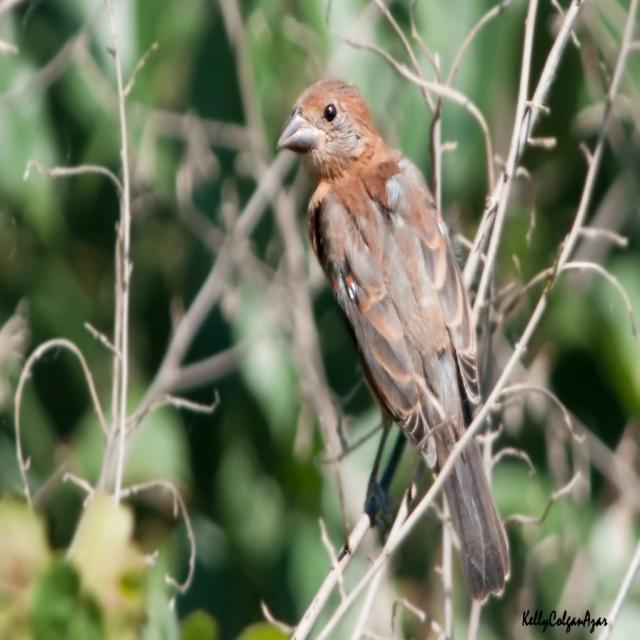bird: (272, 74, 519, 605)
